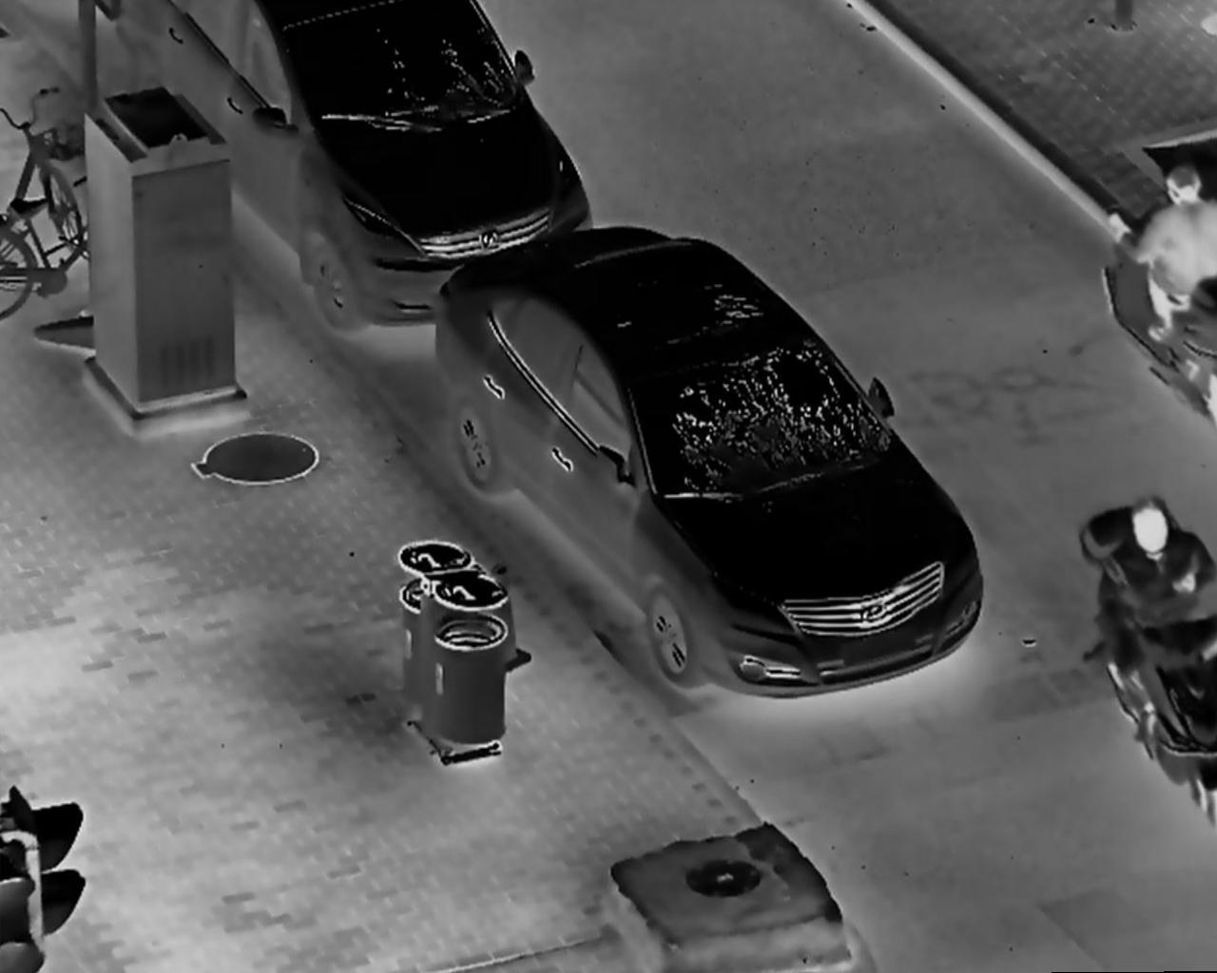person: (1098, 483, 1217, 761), (1096, 157, 1217, 352)
